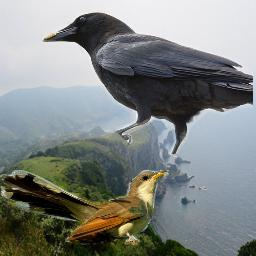Crow: (42, 12, 253, 154)
Cuckoo: (0, 170, 169, 245)
